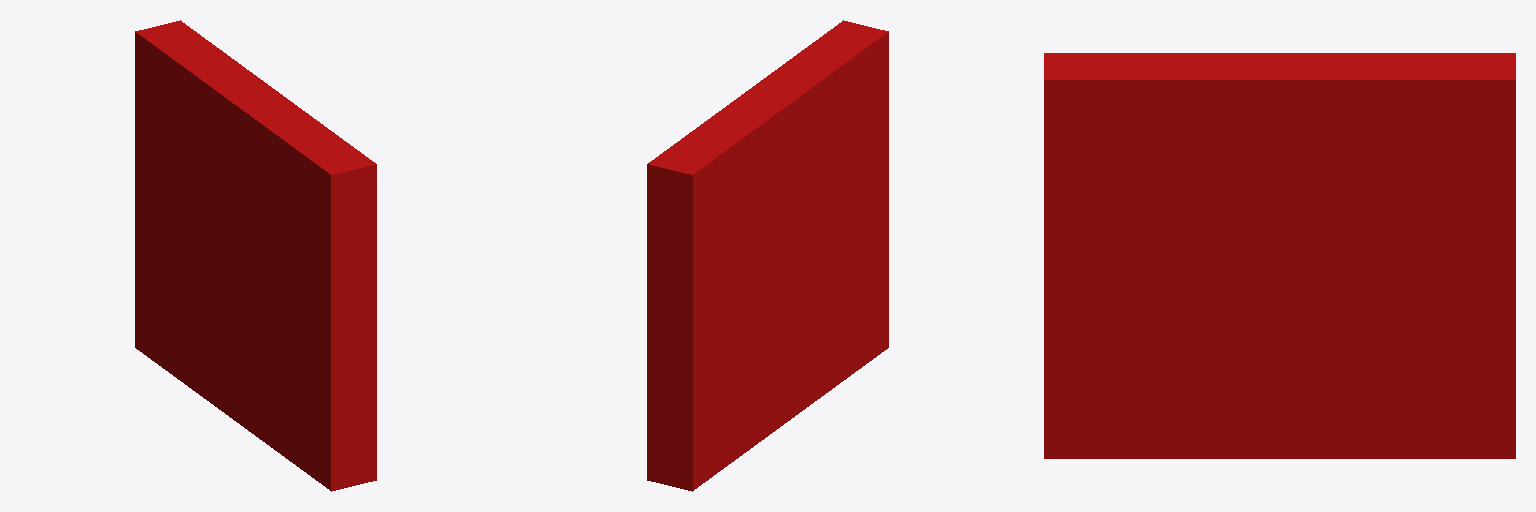
URDF robot description (toroidal_wall):
<?xml version="1.0" encoding="utf-8"?>
<robot name="toroidal_wall" path="/input/toroidal_wall.urdf">
	<link name="world"></link>
	<link name="toroidal_wall_link">
		<inertial>
			<mass value="1.0"></mass>
			<origin xyz="0 0 0" rpy="0 0 0"></origin>
			<inertia ixx="0.01" ixy="0.0" ixz="0.0" iyy="0.01" iyz="0.0" izz="0.01"></inertia>
		</inertial>
		<visual>
			<origin xyz="0.25 0.0 0.2" rpy="0 0 0"></origin>
			<geometry>
				<box size="0.06 0.45 0.4"></box>
			</geometry>
			<material name="red">
				<color rgba="0.8 0.1 0.1 0.6"></color>
			</material>
		</visual>
		<collision>
			<geometry>
				<sphere radius="0.055271"></sphere>
			</geometry>
			<origin xyz="0.249998 0.189575 0.37000299999999997" rpy="0 0 0"></origin>
		</collision>
		<collision>
			<geometry>
				<sphere radius="0.057497"></sphere>
			</geometry>
			<origin xyz="0.25 0.110099 0.36995500000000003" rpy="0 0 0"></origin>
		</collision>
		<collision>
			<geometry>
				<sphere radius="0.054362"></sphere>
			</geometry>
			<origin xyz="0.25 0.189334 0.324272" rpy="0 0 0"></origin>
		</collision>
		<collision>
			<geometry>
				<sphere radius="0.056015"></sphere>
			</geometry>
			<origin xyz="0.25 0.106679 0.31104" rpy="0 0 0"></origin>
		</collision>
		<collision>
			<geometry>
				<sphere radius="0.055996"></sphere>
			</geometry>
			<origin xyz="0.249999 0.098995 0.255867" rpy="0 0 0"></origin>
		</collision>
		<collision>
			<geometry>
				<sphere radius="0.059255"></sphere>
			</geometry>
			<origin xyz="0.250001 0.174236 0.22745300000000002" rpy="0 0 0"></origin>
		</collision>
		<collision>
			<geometry>
				<sphere radius="0.054258"></sphere>
			</geometry>
			<origin xyz="0.250001 0.188514 0.266409" rpy="0 0 0"></origin>
		</collision>
		<collision>
			<geometry>
				<sphere radius="0.058137"></sphere>
			</geometry>
			<origin xyz="0.25 -0.087555 0.362865" rpy="0 0 0"></origin>
		</collision>
		<collision>
			<geometry>
				<sphere radius="0.049315"></sphere>
			</geometry>
			<origin xyz="0.25 -0.021209 0.36885" rpy="0 0 0"></origin>
		</collision>
		<collision>
			<geometry>
				<sphere radius="0.059687"></sphere>
			</geometry>
			<origin xyz="0.25 0.030959 0.364964" rpy="0 0 0"></origin>
		</collision>
		<collision>
			<geometry>
				<sphere radius="0.05808"></sphere>
			</geometry>
			<origin xyz="0.25 -0.04963 0.298977" rpy="0 0 0"></origin>
		</collision>
		<collision>
			<geometry>
				<sphere radius="0.056322"></sphere>
			</geometry>
			<origin xyz="0.250004 -0.041389 0.244428" rpy="0 0 0"></origin>
		</collision>
		<collision>
			<geometry>
				<sphere radius="0.051823"></sphere>
			</geometry>
			<origin xyz="0.250001 0.040302 0.305715" rpy="0 0 0"></origin>
		</collision>
		<collision>
			<geometry>
				<sphere radius="0.051085"></sphere>
			</geometry>
			<origin xyz="0.249999 0.02196 0.24638000000000002" rpy="0 0 0"></origin>
		</collision>
		<collision>
			<geometry>
				<sphere radius="0.056935"></sphere>
			</geometry>
			<origin xyz="0.25 -0.185746 0.216847" rpy="0 0 0"></origin>
		</collision>
		<collision>
			<geometry>
				<sphere radius="0.05627"></sphere>
			</geometry>
			<origin xyz="0.25 -0.111109 0.24560500000000002" rpy="0 0 0"></origin>
		</collision>
		<collision>
			<geometry>
				<sphere radius="0.048096"></sphere>
			</geometry>
			<origin xyz="0.25 -0.19423 0.27069" rpy="0 0 0"></origin>
		</collision>
		<collision>
			<geometry>
				<sphere radius="0.052414"></sphere>
			</geometry>
			<origin xyz="0.250001 -0.137434 0.31877300000000003" rpy="0 0 0"></origin>
		</collision>
		<collision>
			<geometry>
				<sphere radius="0.050007"></sphere>
			</geometry>
			<origin xyz="0.25 -0.151139 0.369997" rpy="0 0 0"></origin>
		</collision>
		<collision>
			<geometry>
				<sphere radius="0.049909"></sphere>
			</geometry>
			<origin xyz="0.249998 -0.195002 0.322567" rpy="0 0 0"></origin>
		</collision>
		<collision>
			<geometry>
				<sphere radius="0.044856"></sphere>
			</geometry>
			<origin xyz="0.250002 -0.201421 0.37642" rpy="0 0 0"></origin>
		</collision>
		<collision>
			<geometry>
				<sphere radius="0.056478"></sphere>
			</geometry>
			<origin xyz="0.250001 -0.145445 0.174427" rpy="0 0 0"></origin>
		</collision>
		<collision>
			<geometry>
				<sphere radius="0.053751"></sphere>
			</geometry>
			<origin xyz="0.25 -0.195 0.033003000000000005" rpy="0 0 0"></origin>
		</collision>
		<collision>
			<geometry>
				<sphere radius="0.049437"></sphere>
			</geometry>
			<origin xyz="0.249116 -0.195884 0.15936" rpy="0 0 0"></origin>
		</collision>
		<collision>
			<geometry>
				<sphere radius="0.054989"></sphere>
			</geometry>
			<origin xyz="0.249999 -0.133396 0.030282000000000003" rpy="0 0 0"></origin>
		</collision>
		<collision>
			<geometry>
				<sphere radius="0.051402"></sphere>
			</geometry>
			<origin xyz="0.249996 -0.195001 0.09755400000000002" rpy="0 0 0"></origin>
		</collision>
		<collision>
			<geometry>
				<sphere radius="0.051146"></sphere>
			</geometry>
			<origin xyz="0.25 -0.11891 0.07942800000000001" rpy="0 0 0"></origin>
		</collision>
		<collision>
			<geometry>
				<sphere radius="0.053789"></sphere>
			</geometry>
			<origin xyz="0.25 -0.139796 0.127454" rpy="0 0 0"></origin>
		</collision>
		<collision>
			<geometry>
				<sphere radius="0.052058"></sphere>
			</geometry>
			<origin xyz="0.25 -0.002253 0.035332" rpy="0 0 0"></origin>
		</collision>
		<collision>
			<geometry>
				<sphere radius="0.05293"></sphere>
			</geometry>
			<origin xyz="0.249999 -0.056978 0.072712" rpy="0 0 0"></origin>
		</collision>
		<collision>
			<geometry>
				<sphere radius="0.051075"></sphere>
			</geometry>
			<origin xyz="0.249998 -0.063861 0.029998000000000025" rpy="0 0 0"></origin>
		</collision>
		<collision>
			<geometry>
				<sphere radius="0.051172"></sphere>
			</geometry>
			<origin xyz="0.250001 -0.009078 0.11514200000000001" rpy="0 0 0"></origin>
		</collision>
		<collision>
			<geometry>
				<sphere radius="0.050503"></sphere>
			</geometry>
			<origin xyz="0.25 -0.021232 0.17444600000000002" rpy="0 0 0"></origin>
		</collision>
		<collision>
			<geometry>
				<sphere radius="0.041163"></sphere>
			</geometry>
			<origin xyz="0.25 -0.073409 0.12463400000000001" rpy="0 0 0"></origin>
		</collision>
		<collision>
			<geometry>
				<sphere radius="0.045403"></sphere>
			</geometry>
			<origin xyz="0.25 -0.073389 0.17914400000000003" rpy="0 0 0"></origin>
		</collision>
		<collision>
			<geometry>
				<sphere radius="0.048956"></sphere>
			</geometry>
			<origin xyz="0.25 0.048469 0.032889" rpy="0 0 0"></origin>
		</collision>
		<collision>
			<geometry>
				<sphere radius="0.052317"></sphere>
			</geometry>
			<origin xyz="0.25 0.0925 0.03969" rpy="0 0 0"></origin>
		</collision>
		<collision>
			<geometry>
				<sphere radius="0.053009"></sphere>
			</geometry>
			<origin xyz="0.250002 0.099642 0.11042800000000001" rpy="0 0 0"></origin>
		</collision>
		<collision>
			<geometry>
				<sphere radius="0.050245"></sphere>
			</geometry>
			<origin xyz="0.25 0.035494 0.10377900000000001" rpy="0 0 0"></origin>
		</collision>
		<collision>
			<geometry>
				<sphere radius="0.048762"></sphere>
			</geometry>
			<origin xyz="0.25 0.03562 0.181125" rpy="0 0 0"></origin>
		</collision>
		<collision>
			<geometry>
				<sphere radius="0.052892"></sphere>
			</geometry>
			<origin xyz="0.249999 0.087704 0.17450900000000003" rpy="0 0 0"></origin>
		</collision>
		<collision>
			<geometry>
				<sphere radius="0.05236"></sphere>
			</geometry>
			<origin xyz="0.25 0.073587 0.216208" rpy="0 0 0"></origin>
		</collision>
		<collision>
			<geometry>
				<sphere radius="0.053994"></sphere>
			</geometry>
			<origin xyz="0.25 0.144666 0.034734000000000015" rpy="0 0 0"></origin>
		</collision>
		<collision>
			<geometry>
				<sphere radius="0.047867"></sphere>
			</geometry>
			<origin xyz="0.25 0.198625 0.02637500000000001" rpy="0 0 0"></origin>
		</collision>
		<collision>
			<geometry>
				<sphere radius="0.051598"></sphere>
			</geometry>
			<origin xyz="0.250002 0.195002 0.08993700000000002" rpy="0 0 0"></origin>
		</collision>
		<collision>
			<geometry>
				<sphere radius="0.052892"></sphere>
			</geometry>
			<origin xyz="0.250001 0.154053 0.11251100000000001" rpy="0 0 0"></origin>
		</collision>
		<collision>
			<geometry>
				<sphere radius="0.049075"></sphere>
			</geometry>
			<origin xyz="0.248358 0.196644 0.15485700000000002" rpy="0 0 0"></origin>
		</collision>
		<collision>
			<geometry>
				<sphere radius="0.047396"></sphere>
			</geometry>
			<origin xyz="0.25 0.149012 0.17908200000000002" rpy="0 0 0"></origin>
		</collision>
		<collision>
			<geometry>
				<sphere radius="0.044786"></sphere>
			</geometry>
			<origin xyz="0.251132 0.196132 0.206827" rpy="0 0 0"></origin>
		</collision>
	</link>
	<joint name="toroidal_wall_joint" type="fixed">
		<parent link="world"></parent>
		<child link="toroidal_wall_link"></child>
	</joint>
</robot>

--- Facts derived from the render (not from the file) ---
Views: 3 orthographic renders of the robot side by side, from view 1: azimuth 30°, elevation 25°; view 2: azimuth 150°, elevation 25°; view 3: azimuth 270°, elevation 25°.
Model toroidal_wall with 2 links and 1 joints (1 fixed), rooted at world, posed all joints at 0.
Links seen in each view (by area): view 1: toroidal_wall_link; view 2: toroidal_wall_link; view 3: toroidal_wall_link.
Link boxes in pixels (bbox=[...]): toroidal_wall_link: bbox=[135, 20, 376, 491]; toroidal_wall_link: bbox=[647, 20, 888, 491]; toroidal_wall_link: bbox=[1044, 53, 1515, 458].
Size in the robot's own frame: 0.06 by 0.45 by 0.4 metres.
Geometry: primitives only (box / cylinder / sphere), no mesh files.
